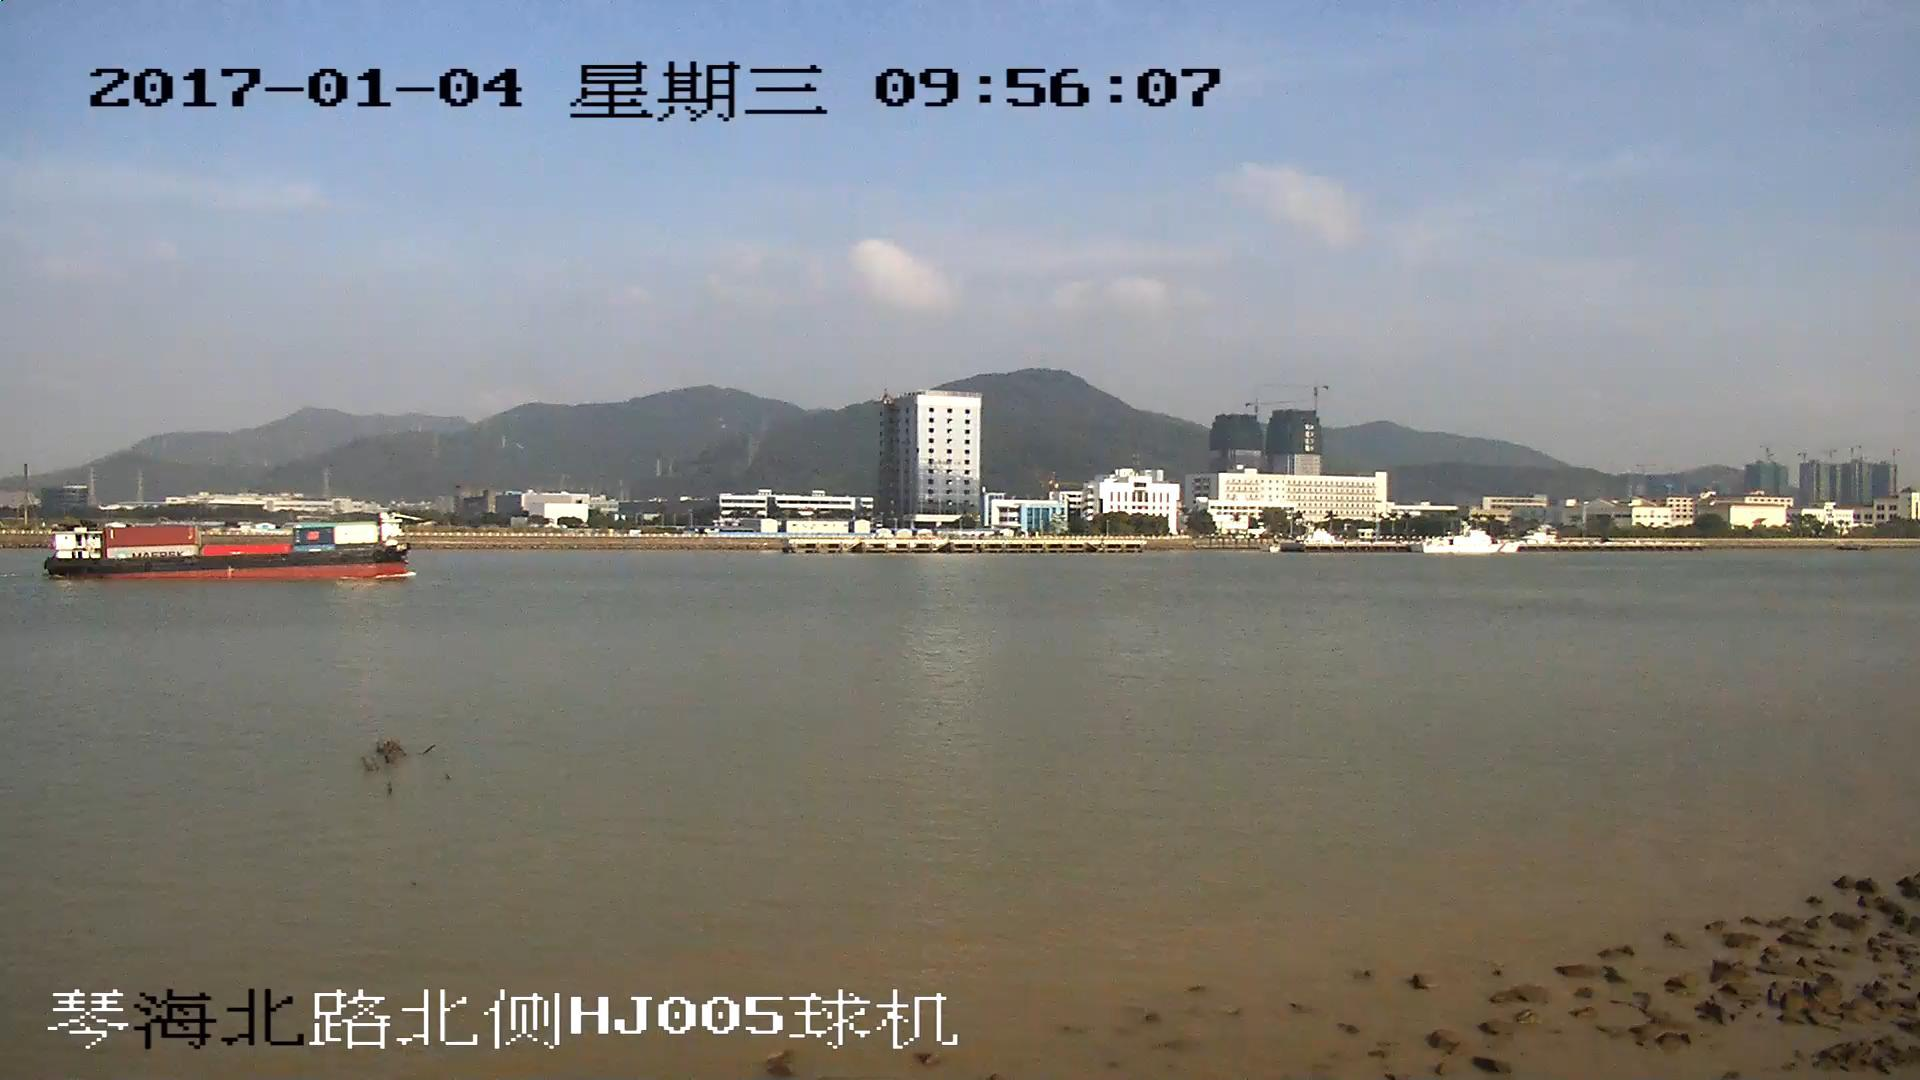Ship: (44, 520, 413, 580)
